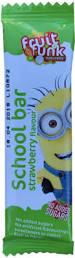Plastik: (1, 0, 75, 256)
